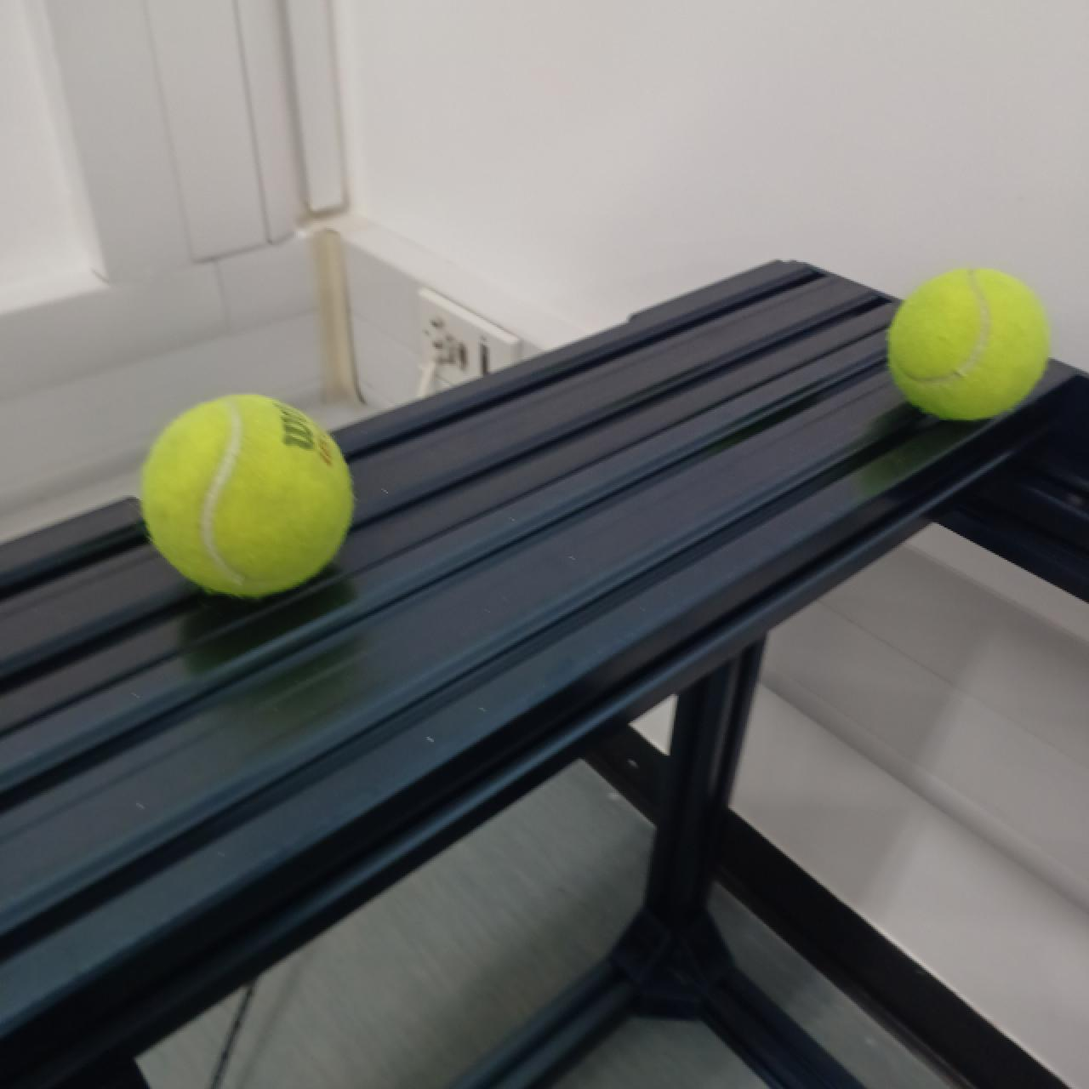tennis-ball: (144, 394, 357, 597), (888, 266, 1049, 418)
